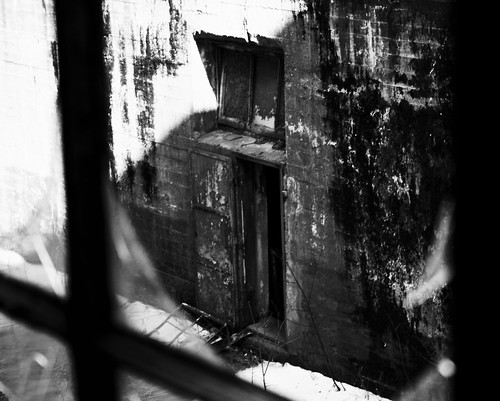door: (225, 151, 288, 350)
window: (195, 35, 289, 137)
